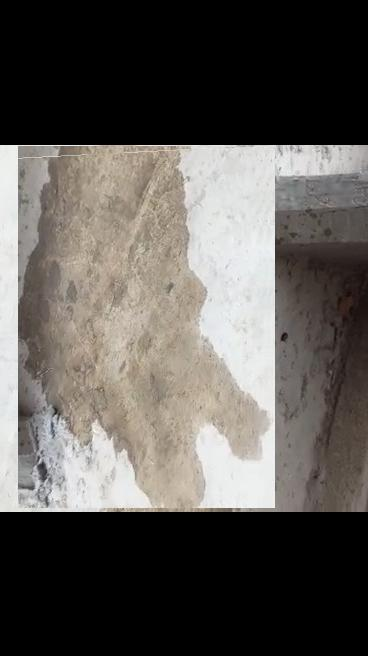water accumulation: (18, 144, 275, 507)
